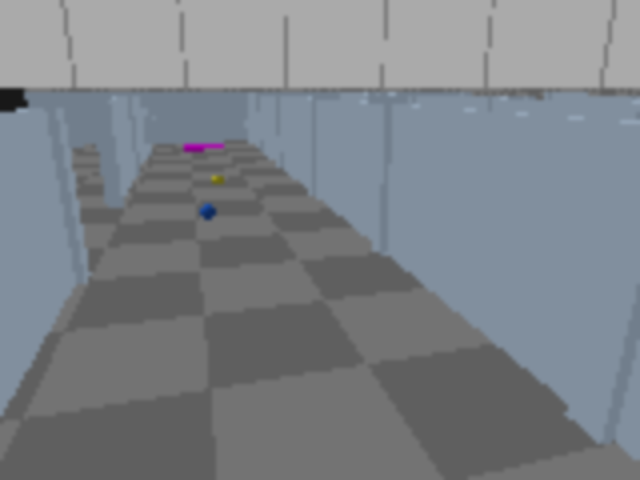goal_zone: (184, 144, 226, 151)
puck: (198, 203, 219, 222)
